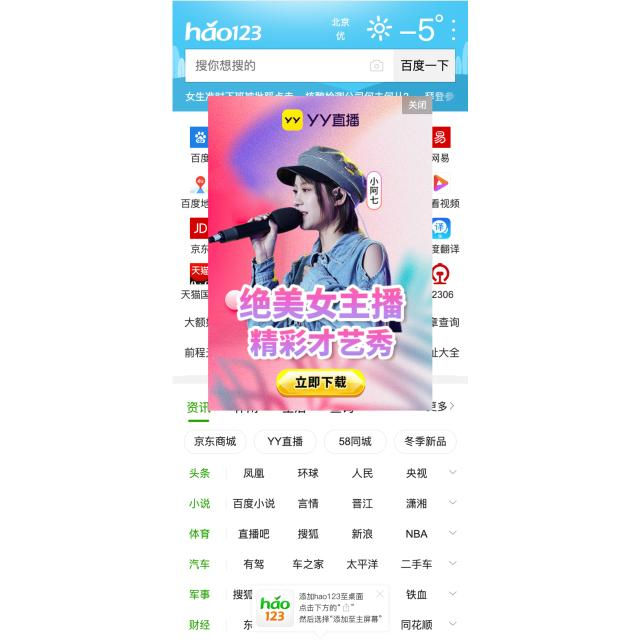CheckBox: (276, 369, 366, 398), (402, 96, 432, 114)
data feed: (293, 375, 347, 390)
header: (208, 96, 432, 410)
image: (237, 283, 407, 362)
